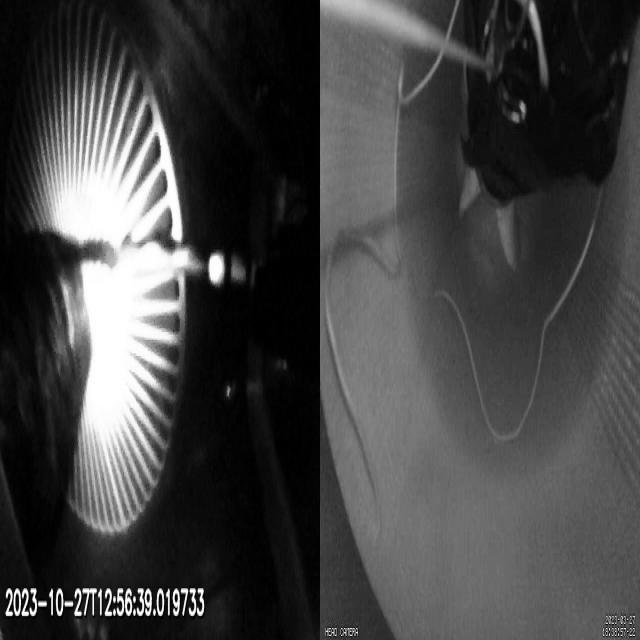white-dots: (209, 252, 258, 286)
